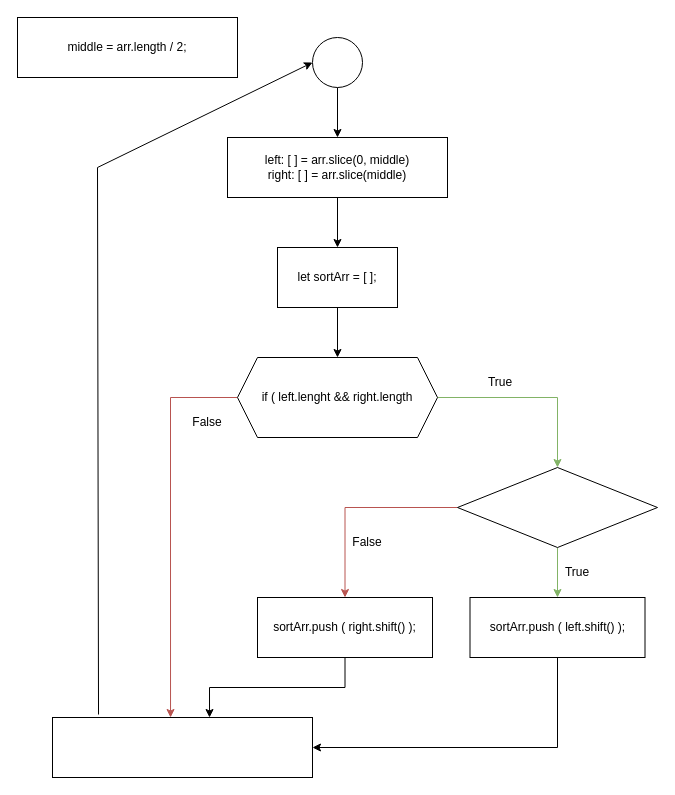
Image size: 675x795. Some labels were removed from this diagram. Here are the shapes that lost their labels. From the top down, the centre of each, then its label:
point (337, 62): array
point (557, 507): if( left [0] < right [0]
point (182, 747): [...sortArr, ...left.slice(), ...right.slice()
